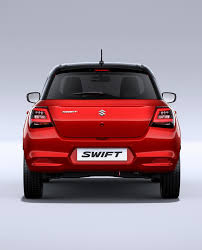Swift: (23, 54, 183, 205)
